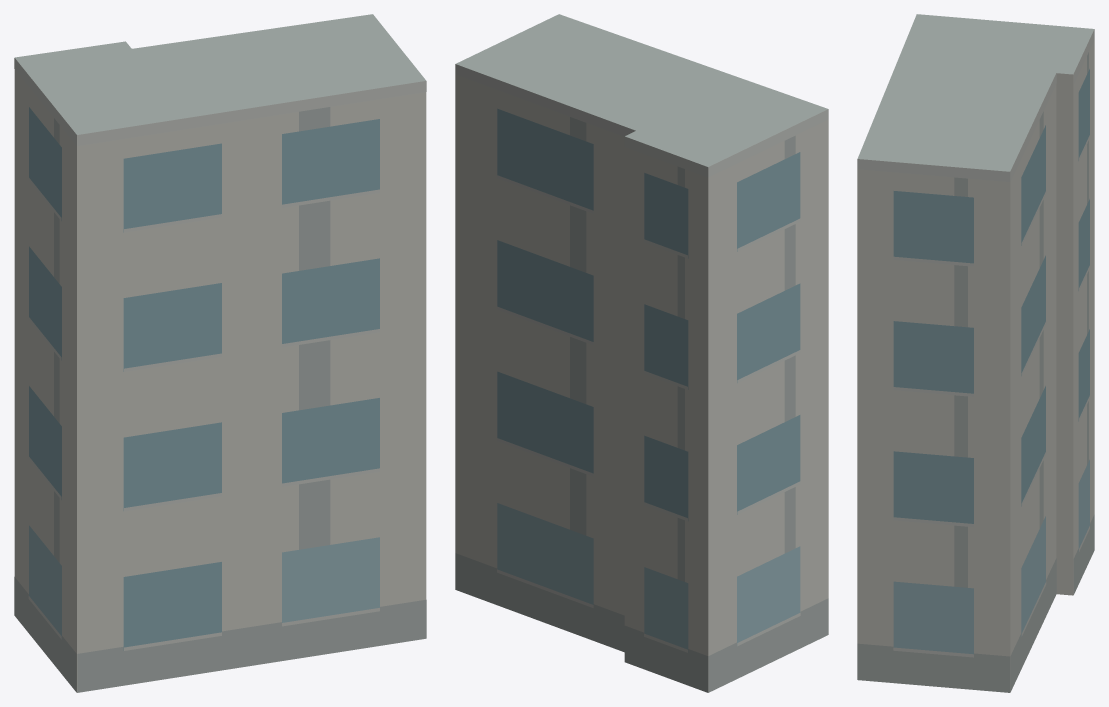
The model's file is survey-upis-32827886.glb.
3 views of the same model, side by side, from view 1: azimuth 30°, elevation 25°; view 2: azimuth 150°, elevation 25°; view 3: azimuth 270°, elevation 25° (orthographic). The views are drawn at different scales.
Parts seen in each view (by area): view 1: survey-upis-32827886.tmp; view 2: survey-upis-32827886.tmp; view 3: survey-upis-32827886.tmp.
Part boxes in pixels (x1,y1,x2,y2): survey-upis-32827886.tmp: [14, 14, 426, 692]; survey-upis-32827886.tmp: [455, 14, 828, 692]; survey-upis-32827886.tmp: [857, 14, 1094, 692].
Bounding box in the file's own units: 7.93 × 12.2 × 5.04.
